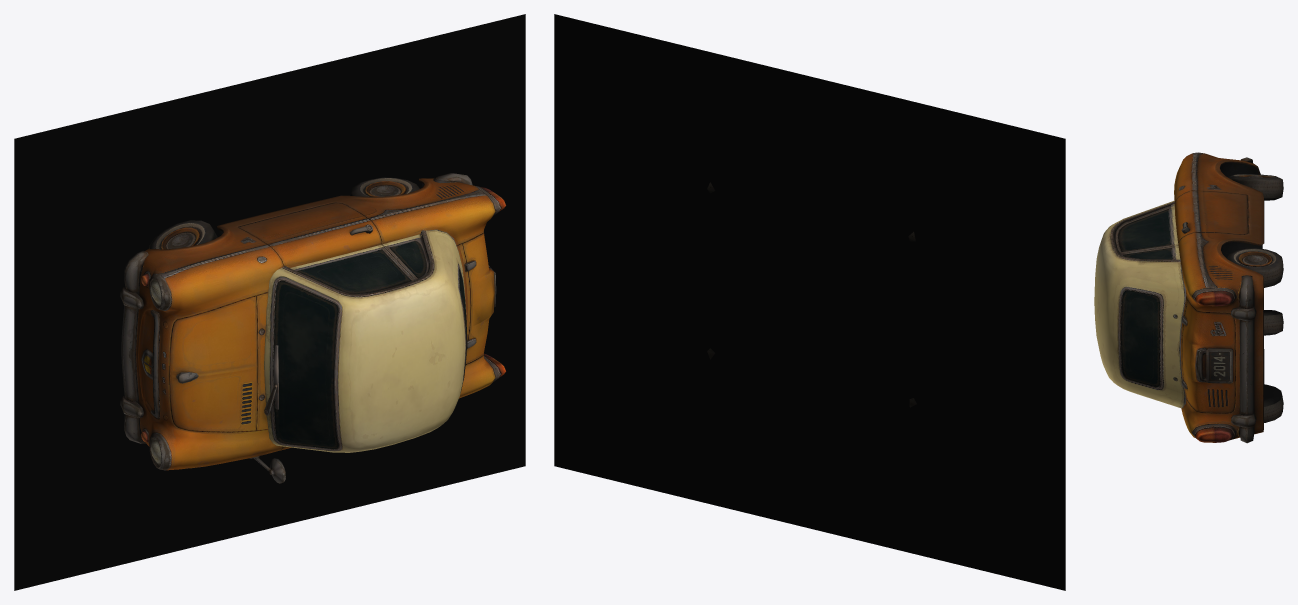
The model's file is car.obj.
3 renders of one model, left to right at view 1: azimuth 30°, elevation 25°; view 2: azimuth 150°, elevation 25°; view 3: azimuth 270°, elevation 25°, orthographic. The views are drawn at different scales.
Visible parts, largest first — view 1: Pony_cartoon2; view 2: Pony_cartoon2; view 3: Pony_cartoon2.
Part boxes in pixels (x1=…): Pony_cartoon2: x1=14, y1=14, x2=525, y2=590; Pony_cartoon2: x1=554, y1=14, x2=1065, y2=590; Pony_cartoon2: x1=1094, y1=152, x2=1283, y2=443.
Bounding box in the file's own units: 2.99 × 2.52 × 1.16.
